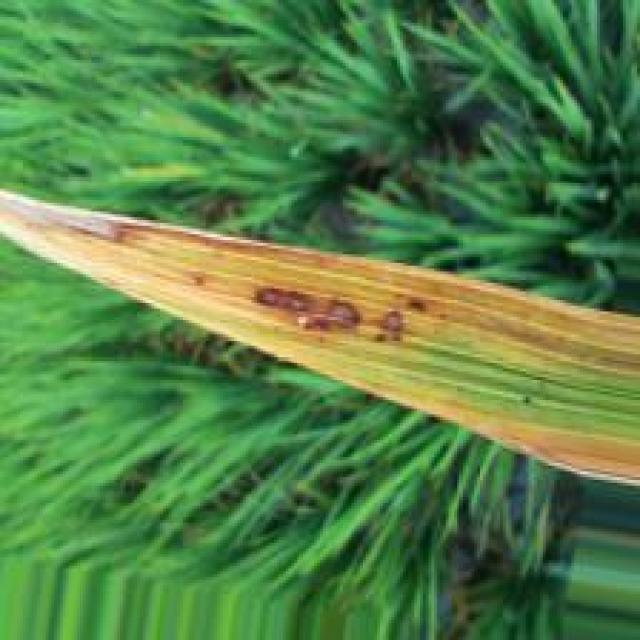Bacterial_Leaf_Blight: (27, 222, 640, 483)
